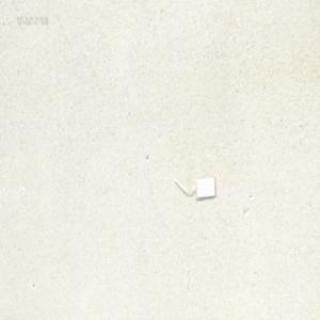LuggageTagtrack_idkeyframe: (172, 172, 215, 200)
